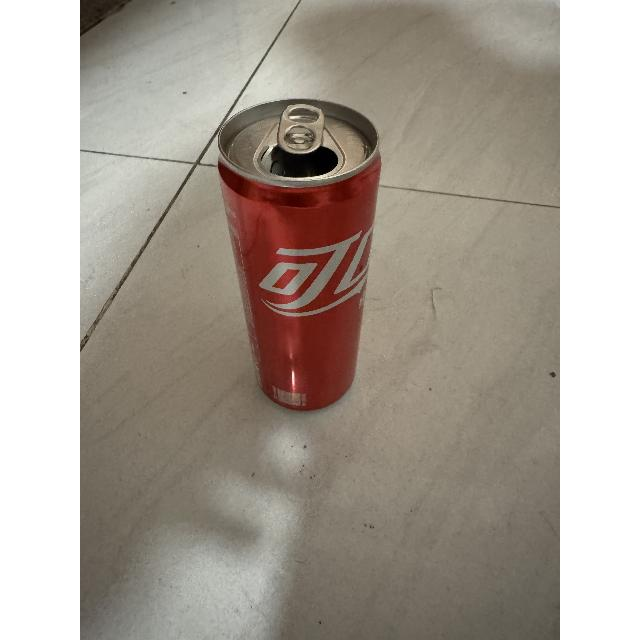coca-cola: (210, 94, 388, 418)
